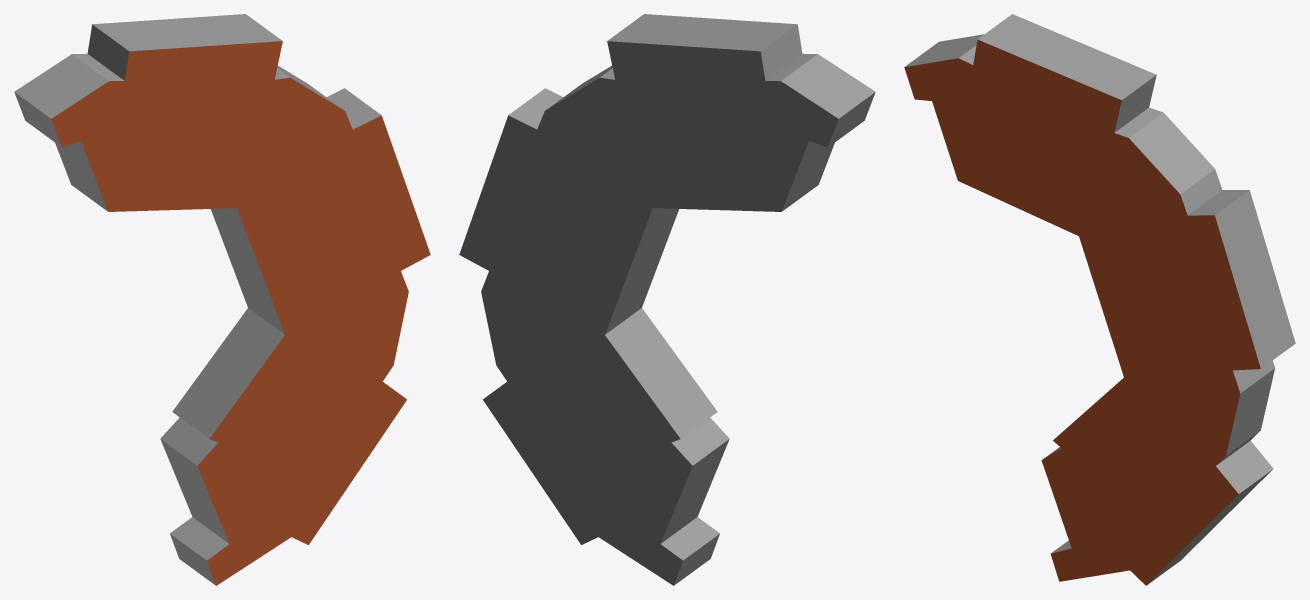
File: construction_1040_assumed_A_Casa_h6m.obj
3 views of the same model, side by side, from view 1: azimuth 30°, elevation 25°; view 2: azimuth 150°, elevation 25°; view 3: azimuth 330°, elevation 25° (orthographic). The views are drawn at different scales.
Visible parts, largest first — view 1: construction_1040_assumed_A_Casa; view 2: construction_1040_assumed_A_Casa; view 3: construction_1040_assumed_A_Casa.
Boxes of the visible parts, <box> form: construction_1040_assumed_A_Casa: <box>14,14,430,585</box>; construction_1040_assumed_A_Casa: <box>459,14,875,585</box>; construction_1040_assumed_A_Casa: <box>904,14,1295,585</box>.
Bounding box in the file's own units: 35.47 × 49.64 × 6.
